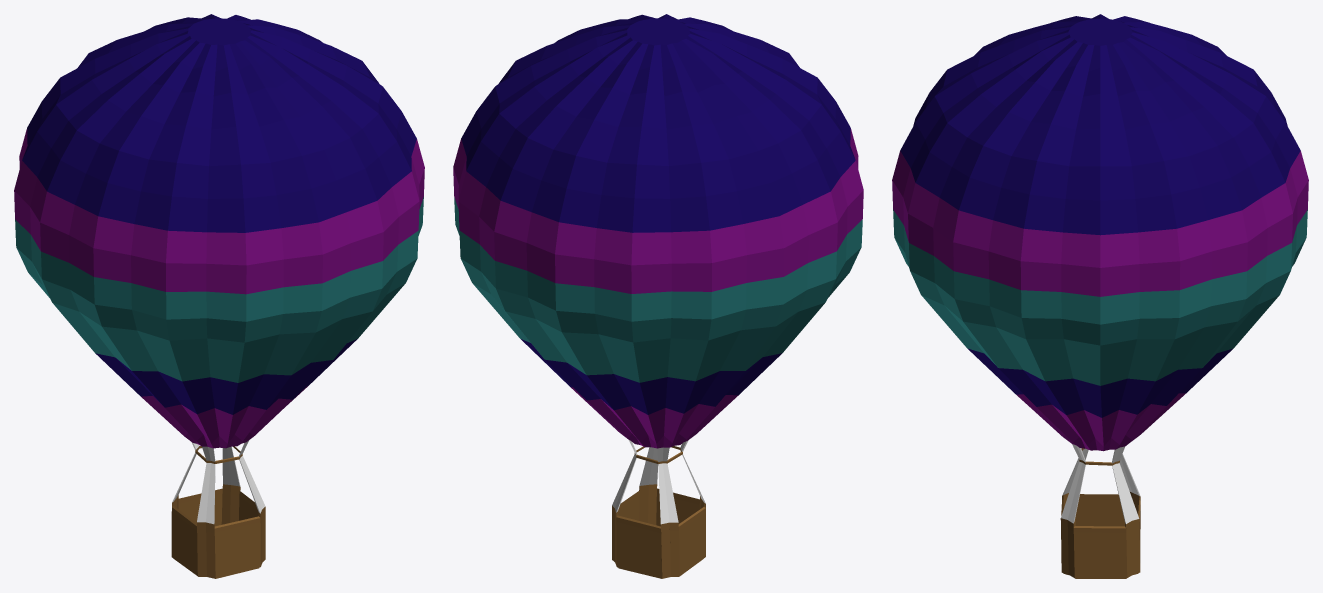
Rendered from hotairballoonproud.fbx.
3 renders of one model, left to right at view 1: azimuth 30°, elevation 25°; view 2: azimuth 150°, elevation 25°; view 3: azimuth 270°, elevation 25°, orthographic.
Parts seen in each view (by area): view 1: Sphere; view 2: Sphere; view 3: Sphere.
Boxes of the visible parts, <box> form: Sphere: <box>14,14,424,578</box>; Sphere: <box>453,14,863,578</box>; Sphere: <box>892,14,1308,578</box>.
Size of the model in its own units: 625 by 879 by 625.
